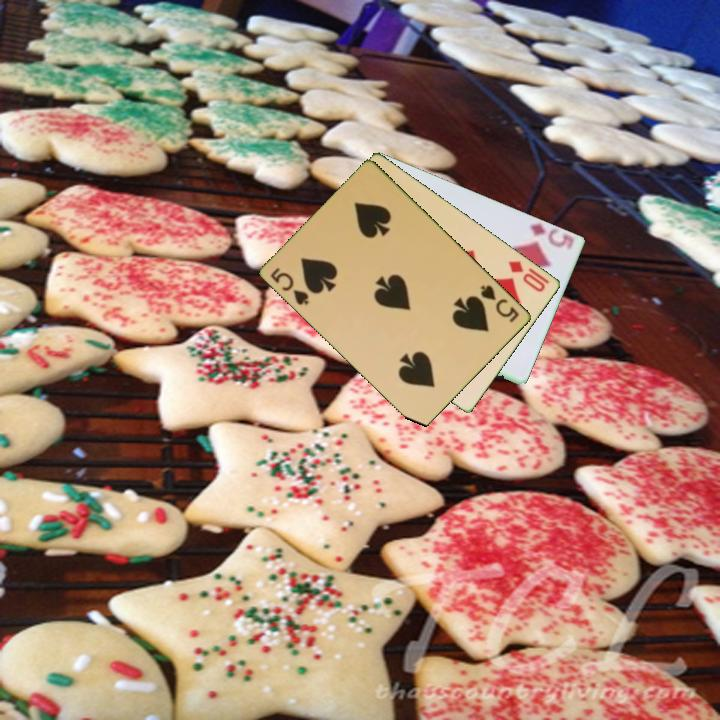10d: (505, 257, 549, 295)
5d: (526, 220, 575, 250)
5s: (477, 281, 522, 326), (267, 264, 313, 308)
